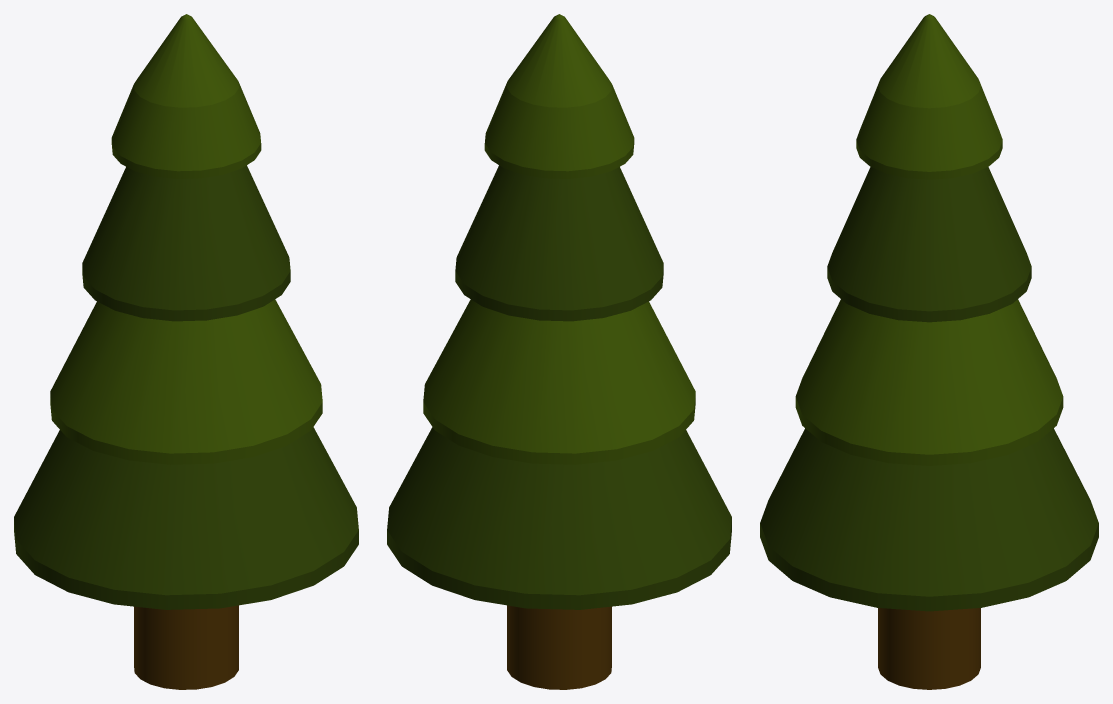
The model's file is Arbol_1.fbx.
3 renders of one model, left to right at view 1: azimuth 30°, elevation 25°; view 2: azimuth 150°, elevation 25°; view 3: azimuth 270°, elevation 25°, orthographic.
Visible parts, largest first — view 1: pCylinder5; view 2: pCylinder5; view 3: pCylinder5.
Part boxes in pixels (box(x1,y1,x2,y2)): pCylinder5: box(14, 14, 358, 689); pCylinder5: box(387, 14, 731, 689); pCylinder5: box(760, 14, 1098, 689).
Bounding box in the file's own units: 79.36 × 164 × 76.86.
